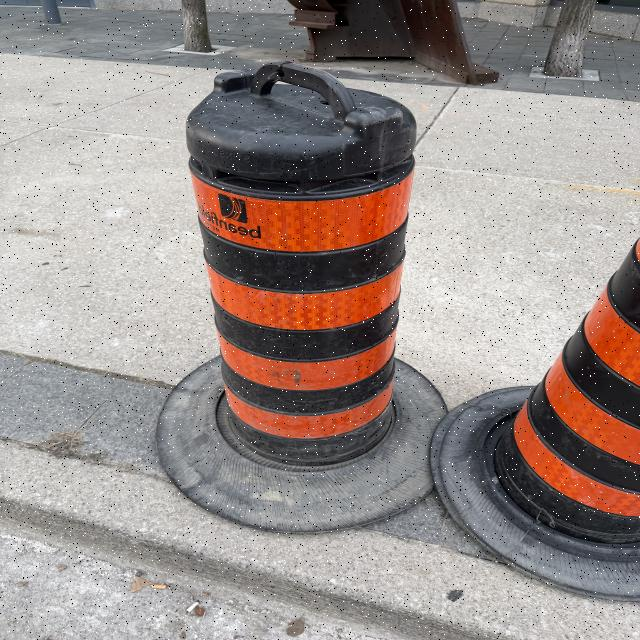Teraffic Barrel: (158, 63, 446, 531), (431, 240, 640, 600)
